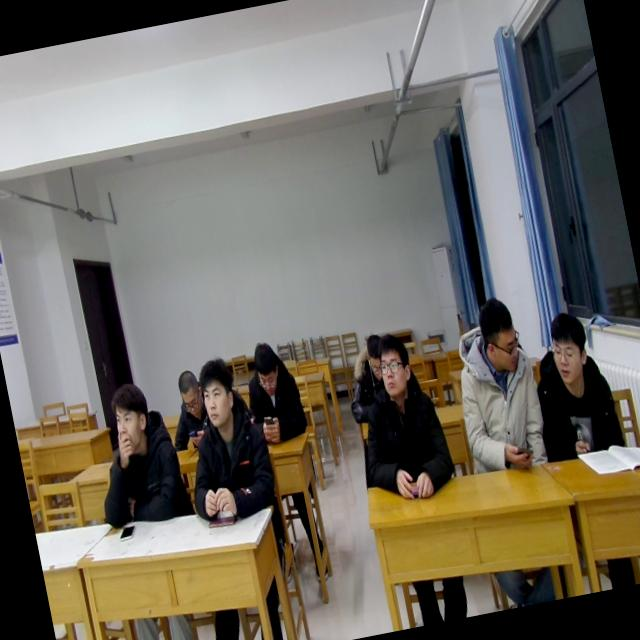bow: (236, 334, 311, 452), (337, 331, 398, 428)
down: (248, 335, 285, 398), (173, 365, 206, 420), (358, 330, 388, 385)
lookup: (538, 304, 598, 391), (105, 377, 158, 458), (192, 354, 245, 431), (371, 328, 418, 402)
sit: (438, 291, 554, 484), (341, 326, 458, 509), (166, 351, 282, 528), (80, 372, 192, 534), (522, 306, 630, 466), (160, 366, 216, 452)
